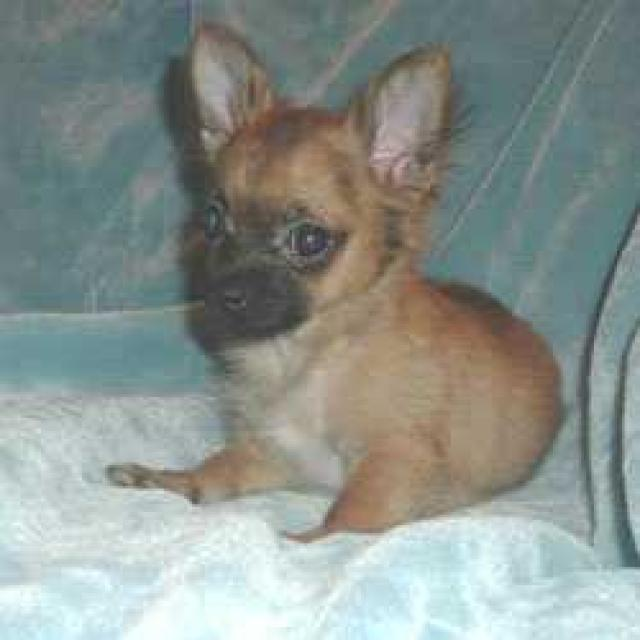dog-chihuahua: (113, 5, 571, 546)
